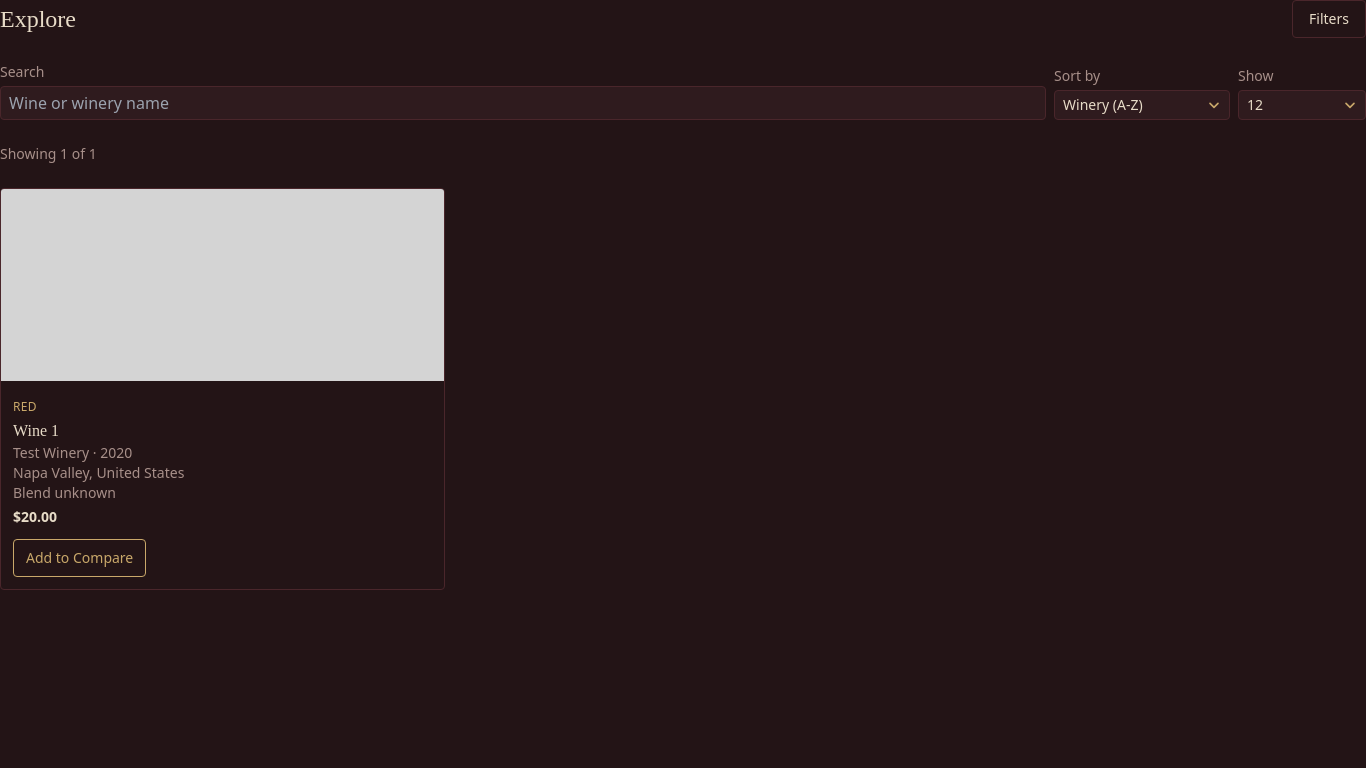
Test: ExplorePage › reflects applied filters in the URL so it can be shared
Expected: the link "Wine 1" is shown, x1=13 y1=422 x2=59 y2=439
Step 1. Click the button "Filters" → (1329, 19), box x1=1292 y1=0 x2=1365 y2=38
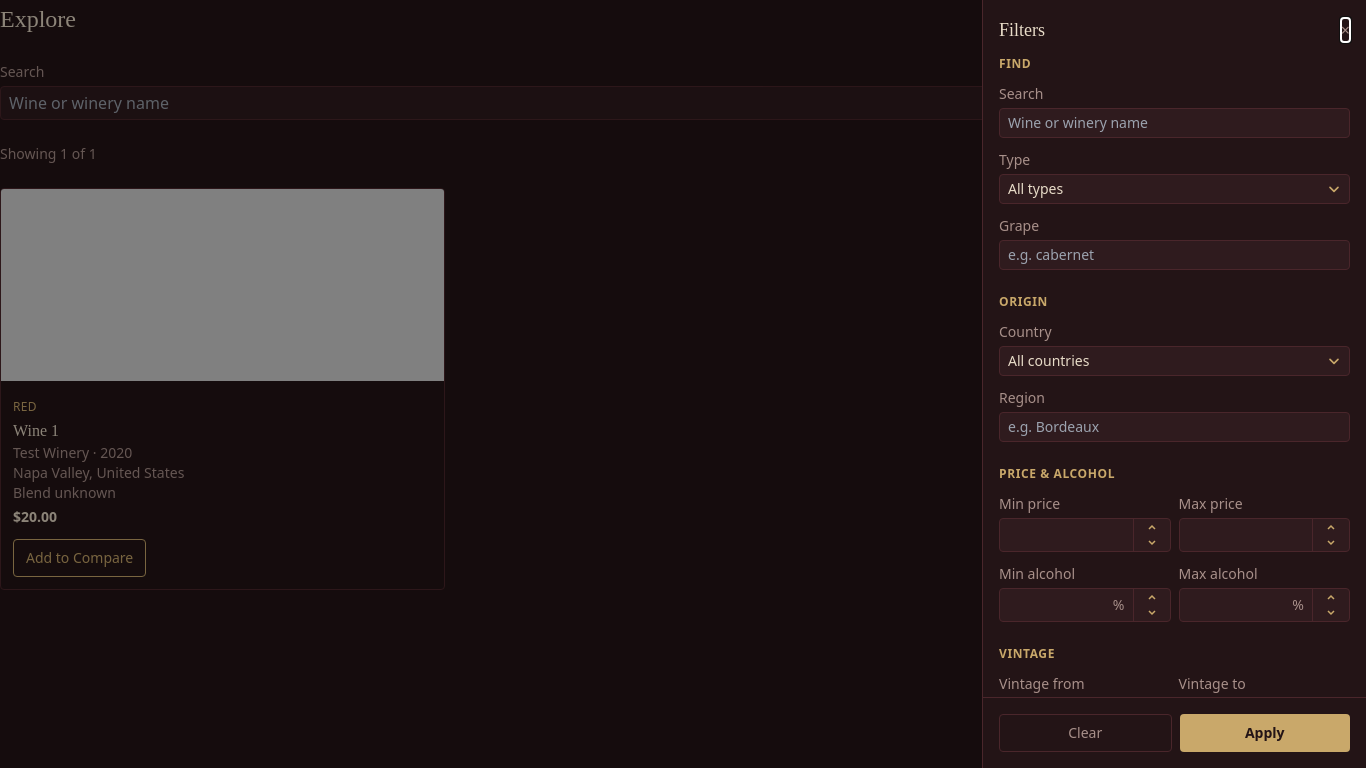
Step 2. Click the dropdown labelled "Type" → (1174, 189), box x1=999 y1=174 x2=1350 y2=204
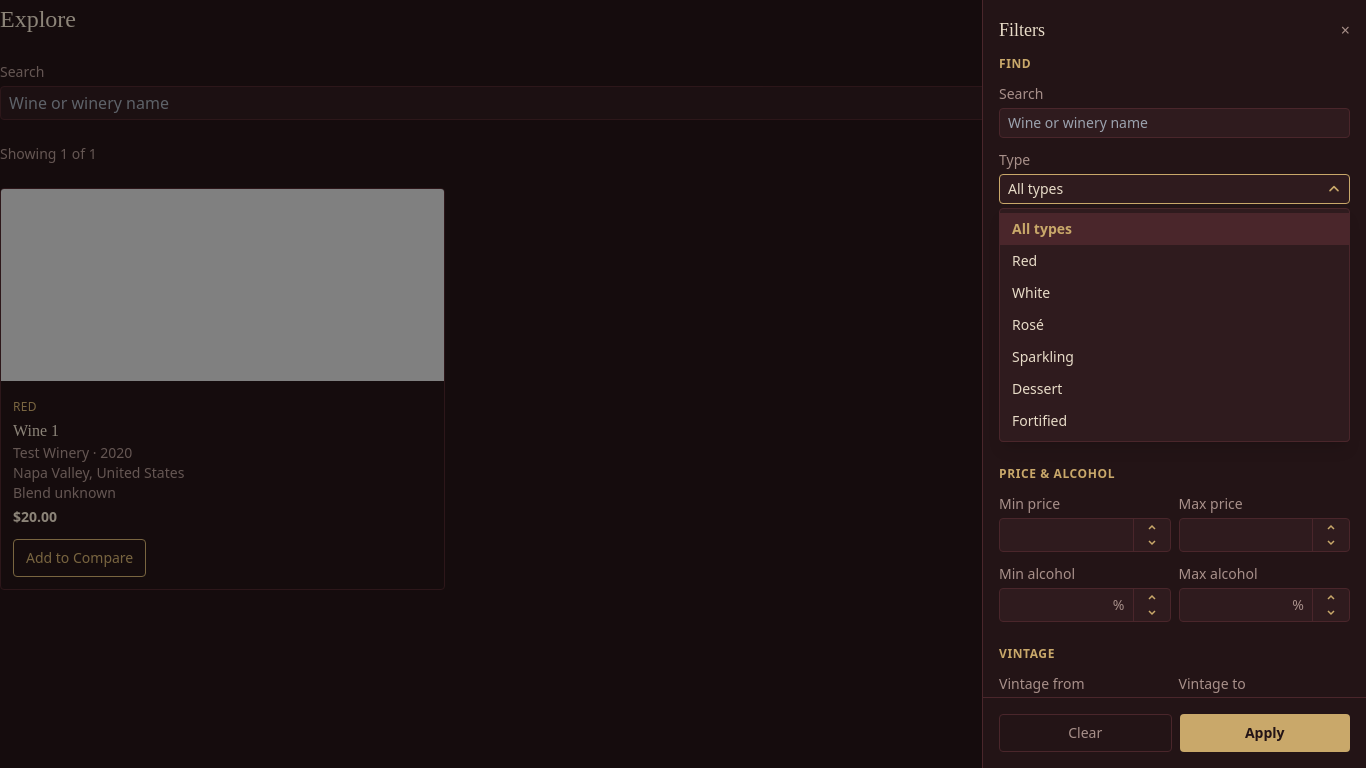
Step 3. Click the option "White" → (1031, 292), box x1=1012 y1=283 x2=1050 y2=302
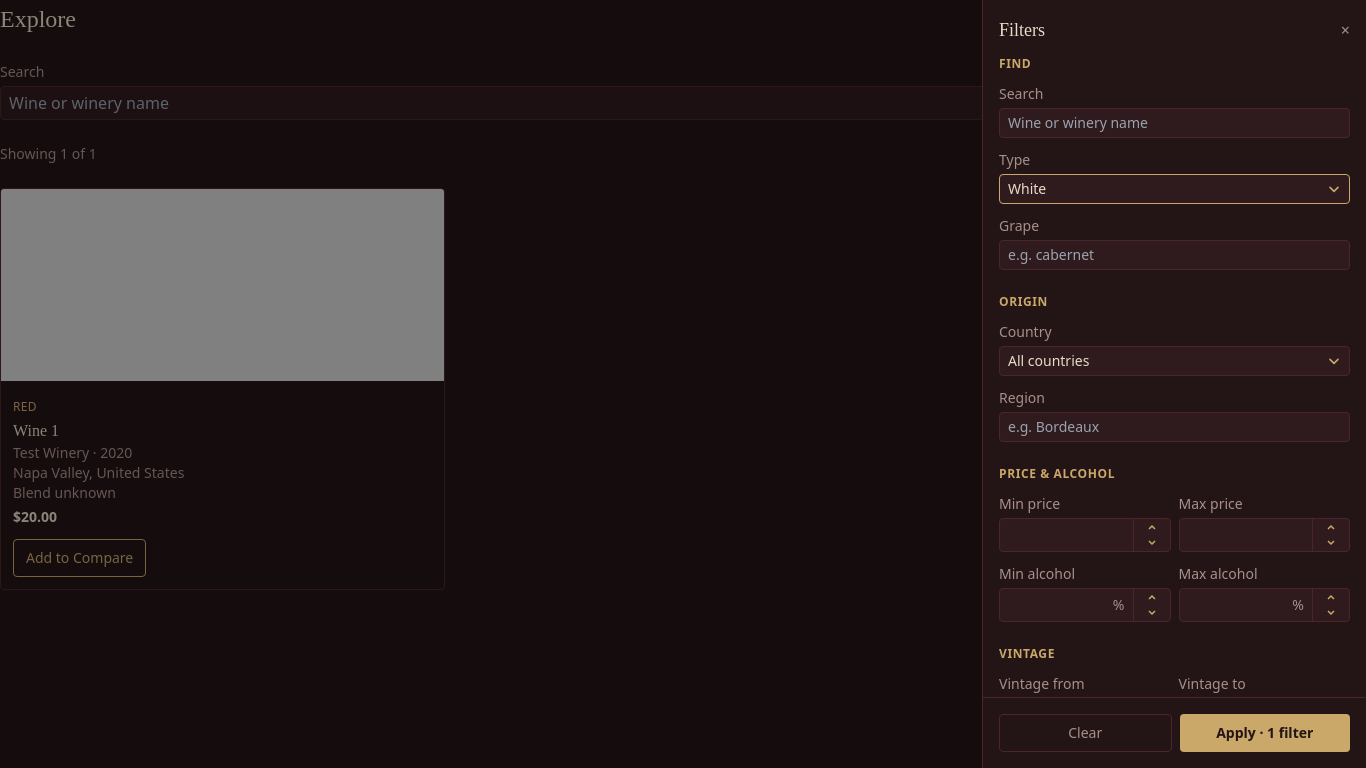
Step 4. Click the button "Apply · 1 filter" → (1265, 733), box x1=1180 y1=714 x2=1350 y2=752
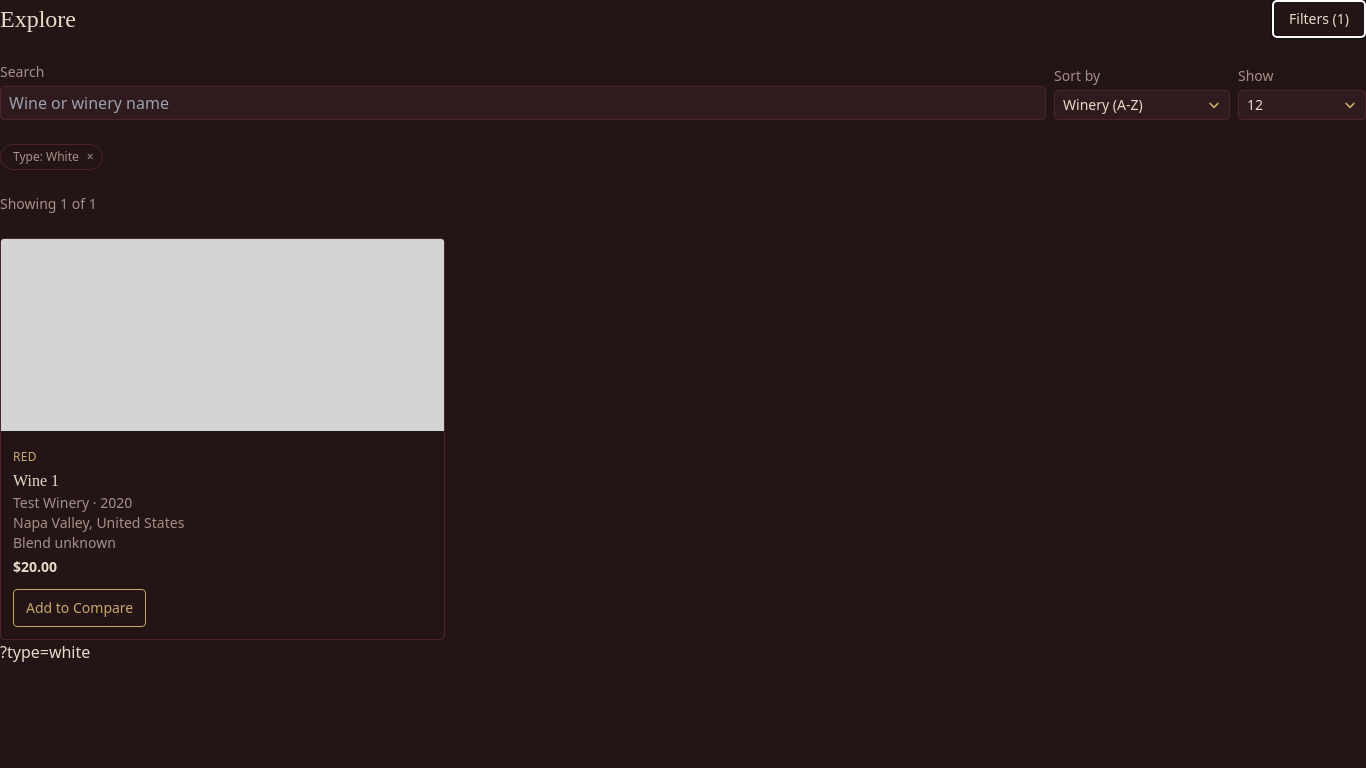
Expected: the text with test id "location" shows "type=white", x1=0 y1=641 x2=90 y2=663
